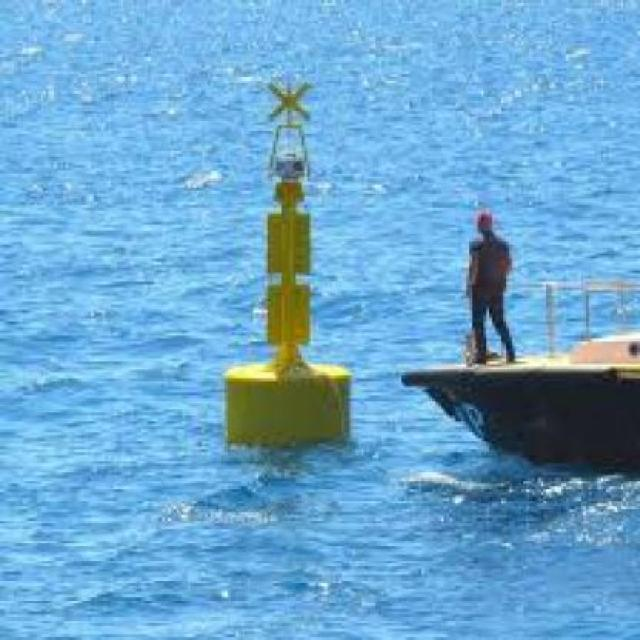buoy: (211, 66, 365, 459)
